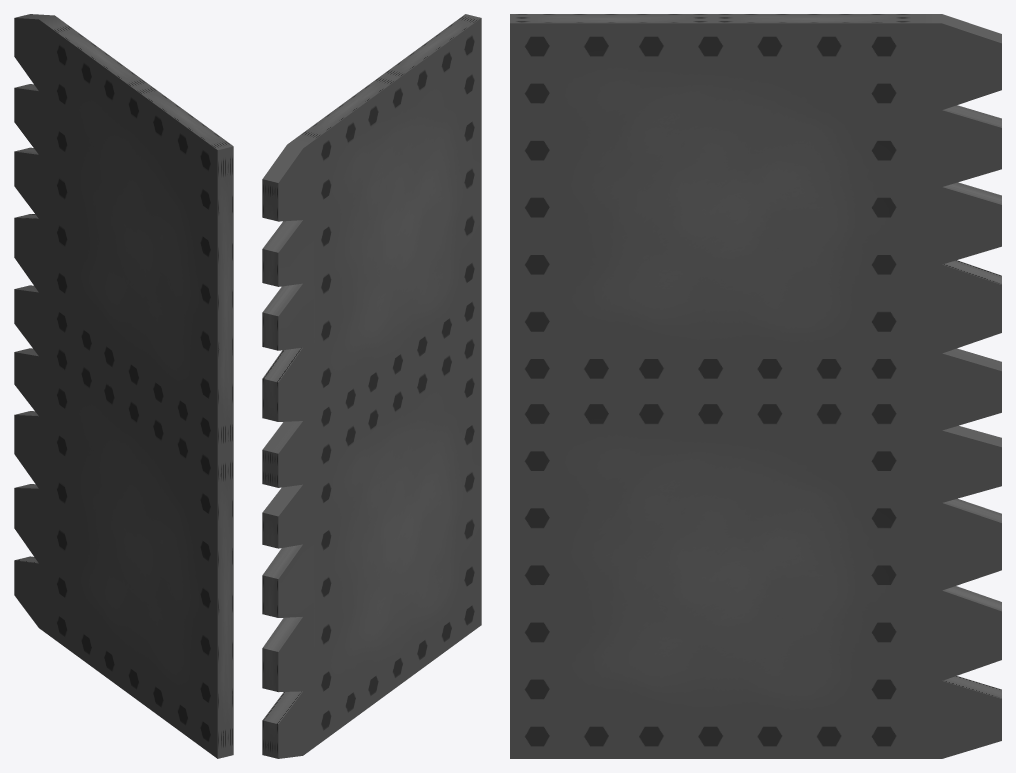
The model's file is SuoDoor.fbx.
3 views of the same model, side by side, from view 1: azimuth 30°, elevation 25°; view 2: azimuth 150°, elevation 25°; view 3: azimuth 270°, elevation 25° (orthographic). The views are drawn at different scales.
Visible parts, largest first — view 1: pCube1; view 2: pCube1; view 3: pCube1.
Part boxes in pixels (bbox=[...]): pCube1: bbox=[14, 14, 233, 758]; pCube1: bbox=[262, 14, 481, 758]; pCube1: bbox=[510, 14, 1001, 758].
Bounding box in the file's own units: 0.1657 × 6 × 3.64.
1 material, 1 textured.
